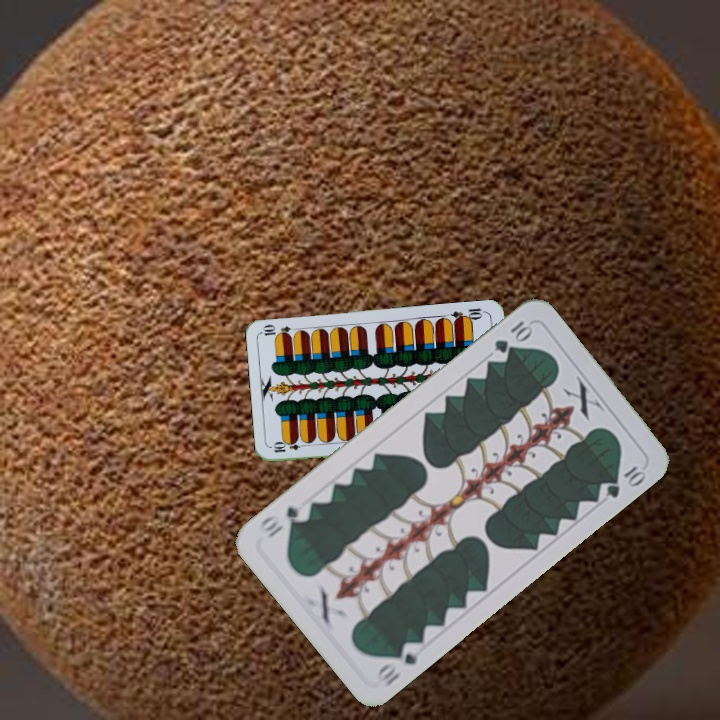E10: (448, 304, 488, 325), (269, 439, 310, 455)
G10: (372, 637, 421, 690), (490, 316, 535, 356)
